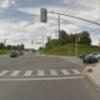crosswalks: (0, 68, 82, 77)
